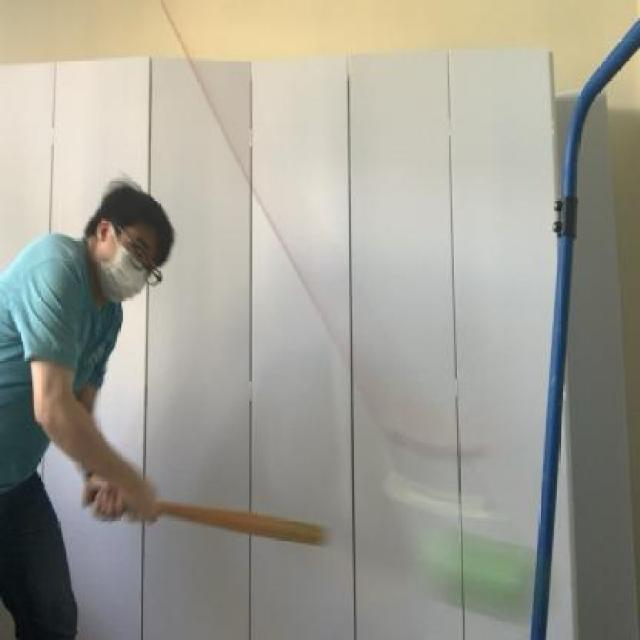baseball: (414, 524, 544, 622)
